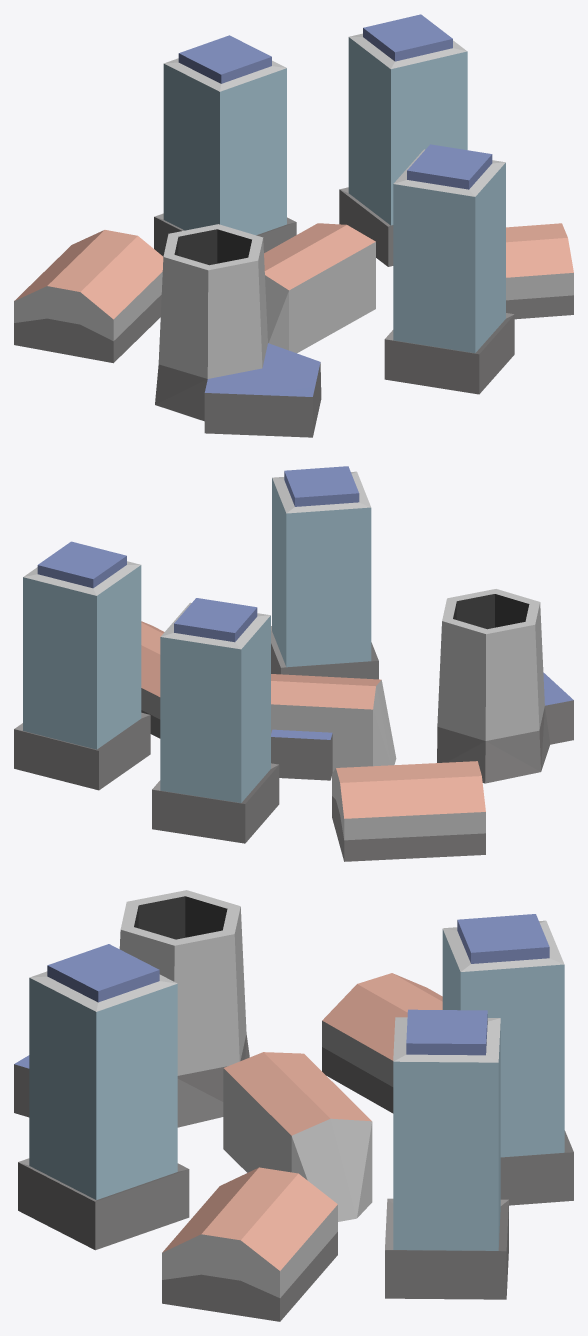
The model's file is beta01_09.dae.
3 views of the same model, one above another, from view 1: azimuth 30°, elevation 25°; view 2: azimuth 150°, elevation 25°; view 3: azimuth 270°, elevation 25° (orthographic). The views are drawn at different scales.
Parts seen in each view (by area): view 1: Cube; view 2: Cube; view 3: Cube.
Boxes of the visible parts, <box> form: Cube: <box>14,14,573,437</box>; Cube: <box>14,466,573,861</box>; Cube: <box>14,890,573,1321</box>.
Size of the model in its own units: 1.92 by 1.61 by 0.7955.
